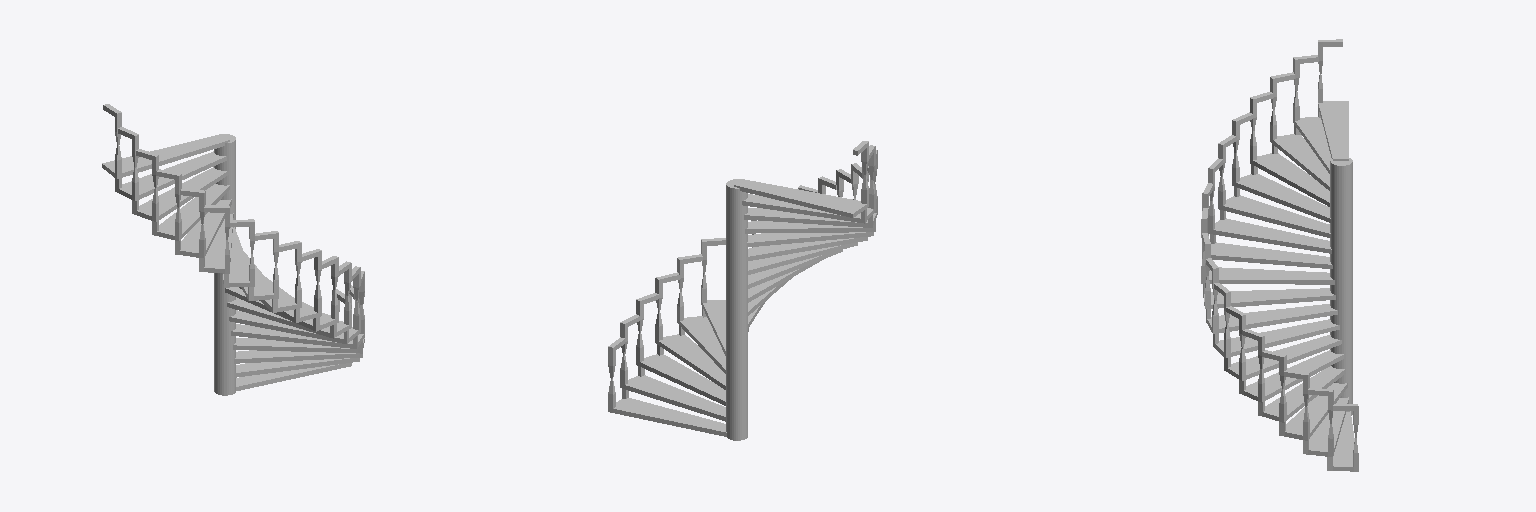
Rendered from SpiralStairs.obj.
The picture shows the model from 3 angles: view 1: azimuth 30°, elevation 25°; view 2: azimuth 150°, elevation 25°; view 3: azimuth 270°, elevation 25°; orthographic projection.
Parts seen in each view (by area): view 1: Wood_Wood, Metal_Metal, Stone_Stone; view 2: Wood_Wood, Stone_Stone, Metal_Metal; view 3: Wood_Wood, Metal_Metal, Stone_Stone.
Boxes of the visible parts, x1=… form: Wood_Wood: x1=102, y1=134, x2=364, y2=390; Metal_Metal: x1=102, y1=104, x2=364, y2=348; Stone_Stone: x1=214, y1=134, x2=235, y2=395; Wood_Wood: x1=608, y1=179, x2=877, y2=436; Stone_Stone: x1=726, y1=179, x2=747, y2=440; Metal_Metal: x1=608, y1=141, x2=877, y2=408; Wood_Wood: x1=1201, y1=101, x2=1358, y2=471; Metal_Metal: x1=1201, y1=39, x2=1358, y2=466; Stone_Stone: x1=1330, y1=158, x2=1352, y2=415.
Bounding box in the file's own units: 251 × 312 × 141.